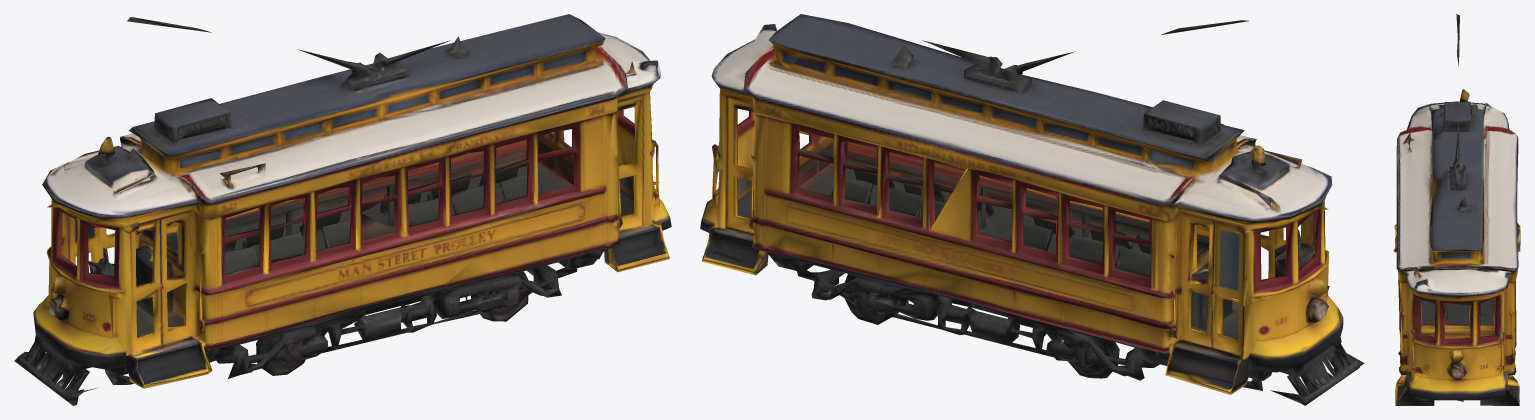
Rendered from tripo_convert_38aa7374-039c-4057-8b7b-f3342f3ddf60.fbx.
The picture shows the model from 3 angles, left to right: view 1: azimuth 30°, elevation 25°; view 2: azimuth 150°, elevation 25°; view 3: azimuth 270°, elevation 25°; orthographic projection. The views are drawn at different scales.
Parts seen in each view (by area): view 1: tripo_node_38aa7374; view 2: tripo_node_38aa7374; view 3: tripo_node_38aa7374.
Part boxes in pixels (bbox=[...]): tripo_node_38aa7374: bbox=[14, 14, 671, 405]; tripo_node_38aa7374: bbox=[700, 14, 1364, 405]; tripo_node_38aa7374: bbox=[1393, 14, 1520, 405].
Size of the model in its own units: 0.9765 by 0.5674 by 0.2567.
Materials: 1 (1 with a texture image).
